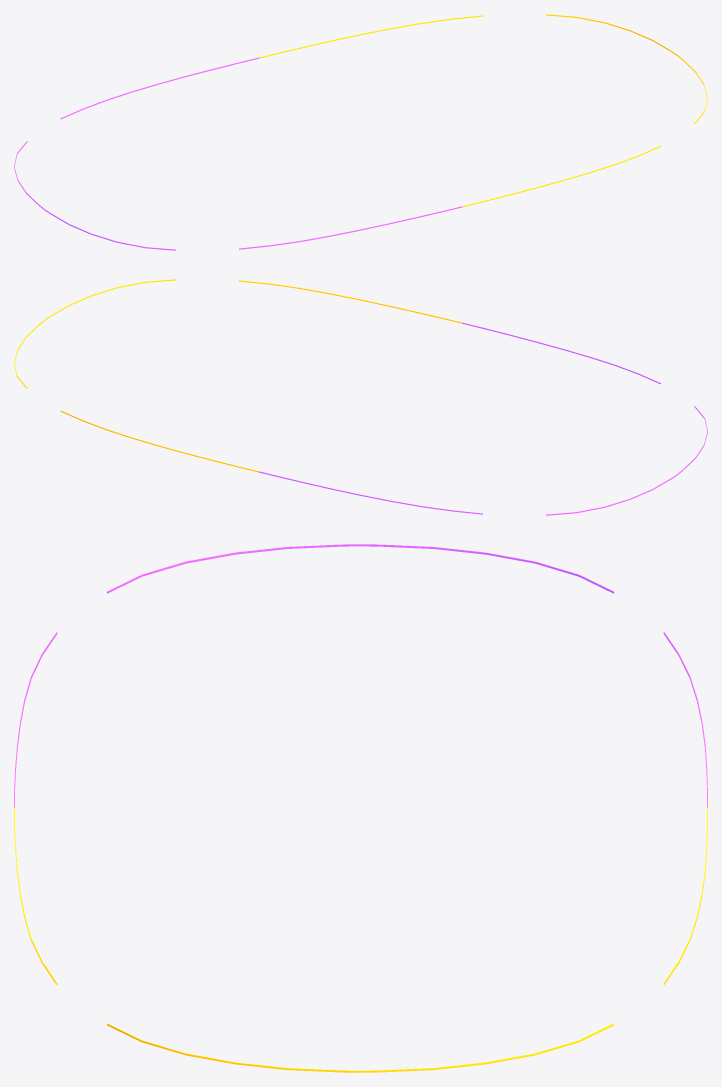
File: mesh_Galaxy_CTF_TeamLightColor.fbx
3 renders of one model, top to bottom at view 1: azimuth 30°, elevation 25°; view 2: azimuth 150°, elevation 25°; view 3: azimuth 270°, elevation 25°, orthographic. The views are drawn at different scales.
Parts seen in each view (by area): view 1: mod_Map_Wall_SplineDM.007, mod_Map_Wall_SplineDM.008, mod_Map_Wall_SplineDM.009, mod_Map_Wall_SplineDM.006; view 2: mod_Map_Wall_SplineDM.007, mod_Map_Wall_SplineDM.008, mod_Map_Wall_SplineDM.006, mod_Map_Wall_SplineDM.009; view 3: mod_Map_Wall_SplineDM.006, mod_Map_Wall_SplineDM.009.
Part boxes in pixels (x1=…): mod_Map_Wall_SplineDM.007: x1=60, y1=15, x2=482, y2=119; mod_Map_Wall_SplineDM.008: x1=239, y1=145, x2=661, y2=249; mod_Map_Wall_SplineDM.009: x1=14, y1=141, x2=175, y2=250; mod_Map_Wall_SplineDM.006: x1=546, y1=14, x2=707, y2=123; mod_Map_Wall_SplineDM.007: x1=60, y1=410, x2=482, y2=514; mod_Map_Wall_SplineDM.008: x1=239, y1=280, x2=661, y2=384; mod_Map_Wall_SplineDM.006: x1=14, y1=279, x2=175, y2=388; mod_Map_Wall_SplineDM.009: x1=546, y1=406, x2=707, y2=515; mod_Map_Wall_SplineDM.006: x1=107, y1=1023, x2=614, y2=1072; mod_Map_Wall_SplineDM.009: x1=107, y1=544, x2=614, y2=593.
Bounding box in the file's own units: 51.23 × 0.0801 × 28.52.
